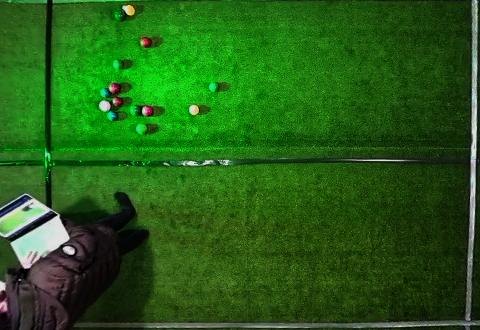blue: (100, 88, 111, 98), (107, 111, 118, 121)
green: (136, 123, 147, 135), (114, 10, 126, 21), (130, 105, 140, 116), (208, 82, 219, 92), (113, 59, 123, 69)
red: (98, 99, 111, 112), (141, 105, 154, 117), (140, 37, 152, 48), (109, 83, 121, 94), (112, 97, 123, 107)
vline: (1, 1, 52, 204), (462, 1, 479, 329)
white: (122, 5, 125, 11)
yellow: (125, 5, 135, 16), (189, 105, 199, 115)
